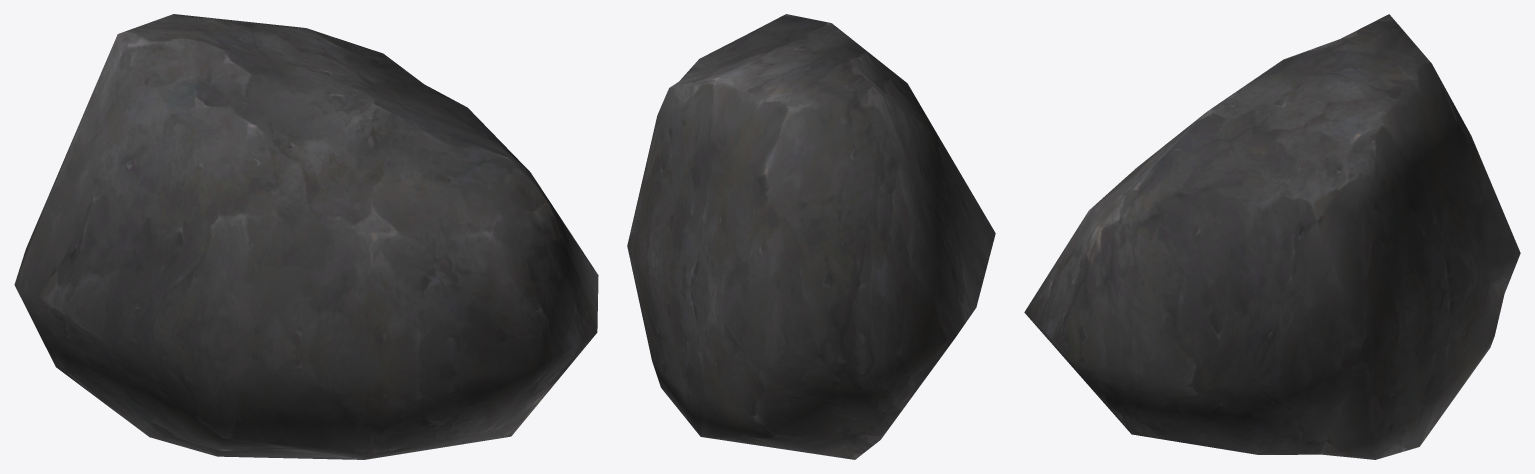
Rendered from cragrocksmall_b01.obj.
3 renders of one model, left to right at view 1: azimuth 30°, elevation 25°; view 2: azimuth 150°, elevation 25°; view 3: azimuth 270°, elevation 25°, orthographic. The views are drawn at different scales.
Visible parts, largest first — view 1: world/expansion06/doodads/suramar/7sr_cragrocksmall_b01.m2_Geose; view 2: world/expansion06/doodads/suramar/7sr_cragrocksmall_b01.m2_Geose; view 3: world/expansion06/doodads/suramar/7sr_cragrocksmall_b01.m2_Geose.
Part boxes in pixels (box(x1,y1,x2,y2)): world/expansion06/doodads/suramar/7sr_cragrocksmall_b01.m2_Geose: box(14, 14, 598, 459); world/expansion06/doodads/suramar/7sr_cragrocksmall_b01.m2_Geose: box(627, 14, 995, 459); world/expansion06/doodads/suramar/7sr_cragrocksmall_b01.m2_Geose: box(1024, 14, 1520, 459).
Bounding box in the file's own units: 5.82 × 4.96 × 6.2.
Materials: 1 (1 with a texture image).
